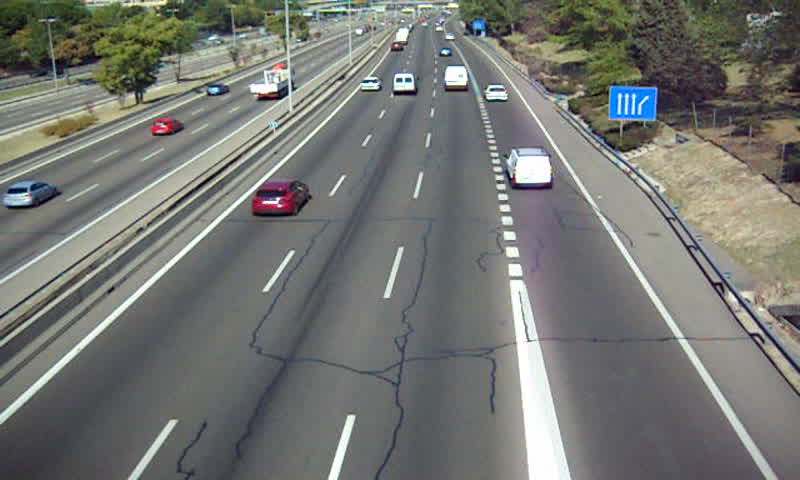car: (251, 181, 308, 215), (484, 85, 510, 103), (359, 77, 381, 91)
van: (507, 148, 554, 187), (444, 65, 470, 89), (392, 74, 417, 97)
